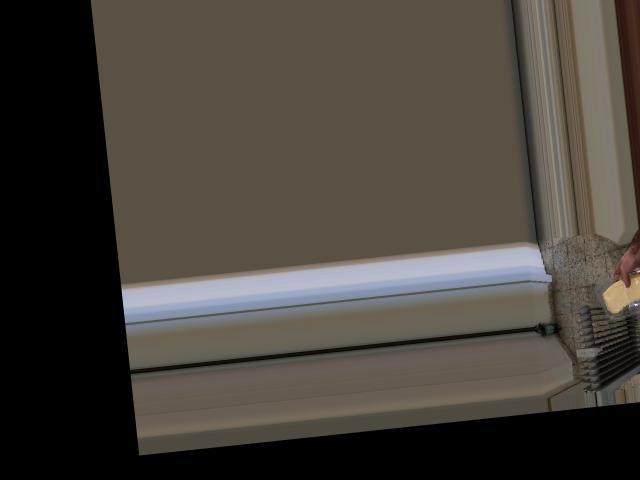cheese: (595, 269, 640, 316)
